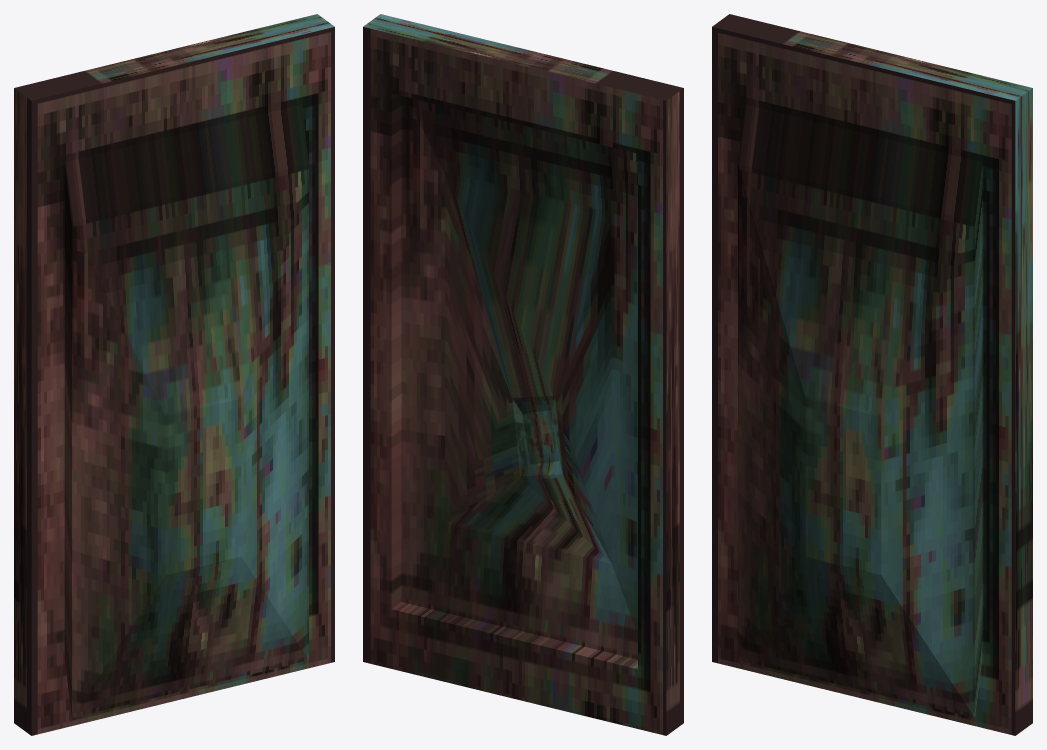
File: grueldoorkick.obj
3 renders of one model, left to right at view 1: azimuth 30°, elevation 25°; view 2: azimuth 150°, elevation 25°; view 3: azimuth 330°, elevation 25°, orthographic.
Parts seen in each view (by area): view 1: Cube; view 2: Cube; view 3: Cube.
Boxes of the visible parts, x1,y1,x2,y2 form: Cube: [14, 14, 334, 735]; Cube: [363, 14, 683, 735]; Cube: [712, 14, 1032, 735].
Bounding box in the file's own units: 1 × 2 × 0.2163.
Materials: 1 (1 with a texture image).
